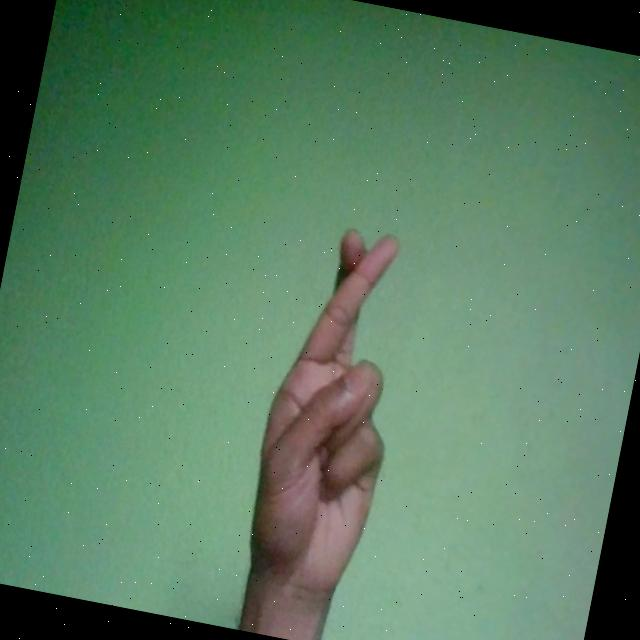Ok: (233, 217, 425, 606)
